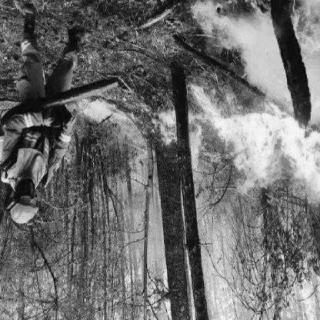Fire: (277, 4, 319, 64)
